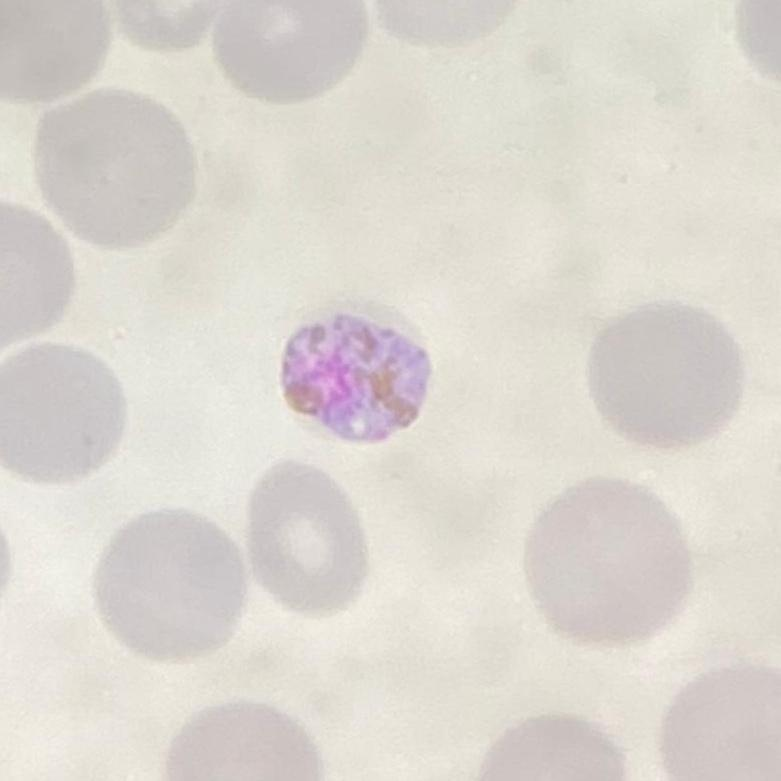Infected: (279, 299, 432, 443)
Uninfected: (526, 475, 689, 646), (30, 87, 192, 249), (90, 513, 246, 664), (592, 303, 739, 446), (246, 453, 363, 620), (0, 347, 125, 478), (213, 0, 361, 108), (658, 665, 781, 781), (162, 705, 323, 781)
